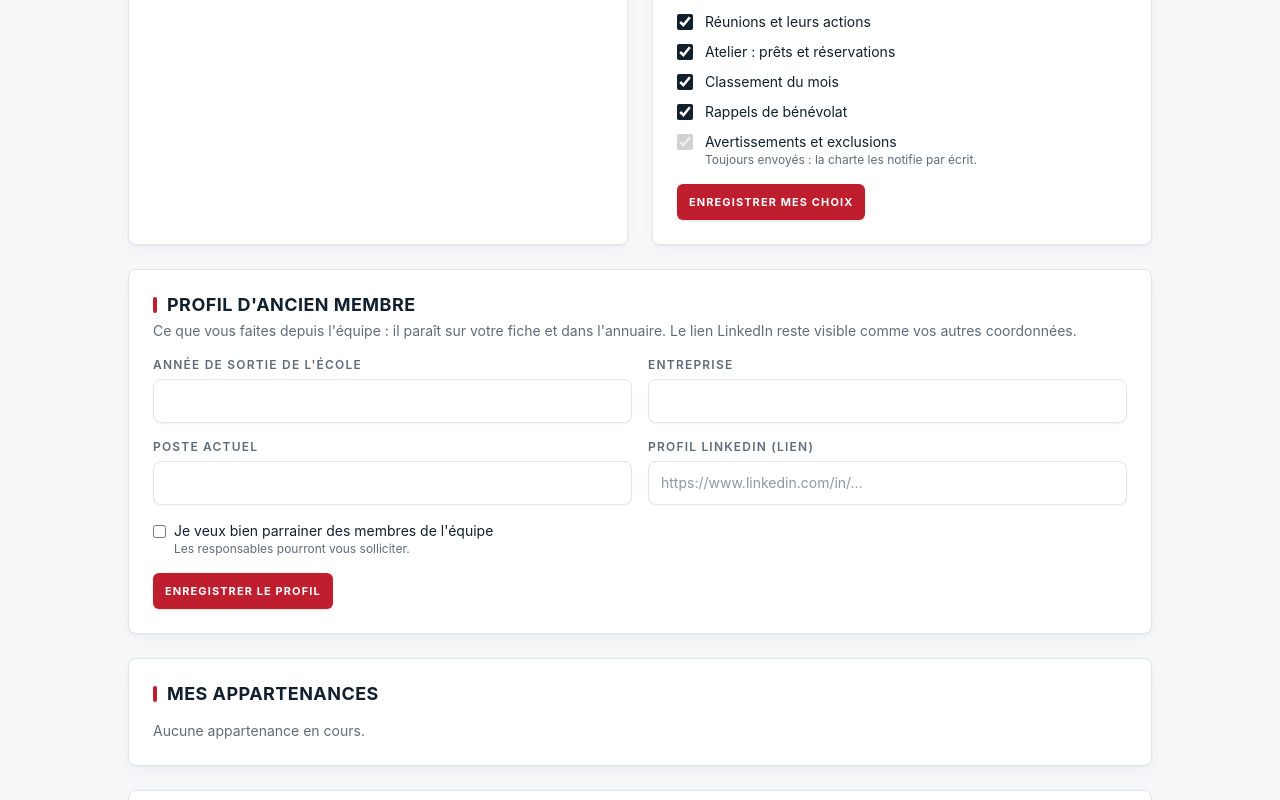
Test: ProfileView › saves the alumni profile
(page scrolled)
Type "2024" into the number field labelled "Année de sortie de l'école".
click(392, 400); type("2024")  # box [153,378,632,422]
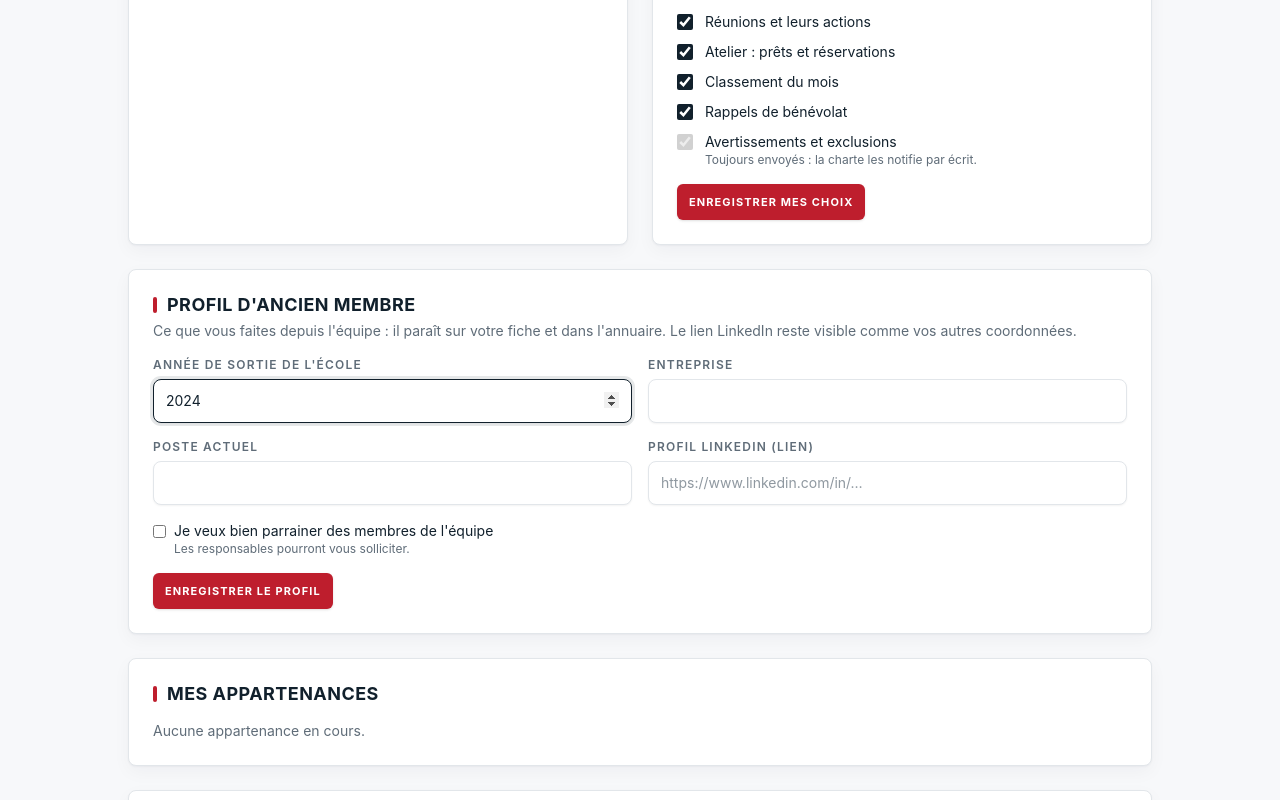
Type "Atelier Demo" into the field labelled "Entreprise".
click(888, 400); type("Atelier Demo")  # box [648,378,1127,422]
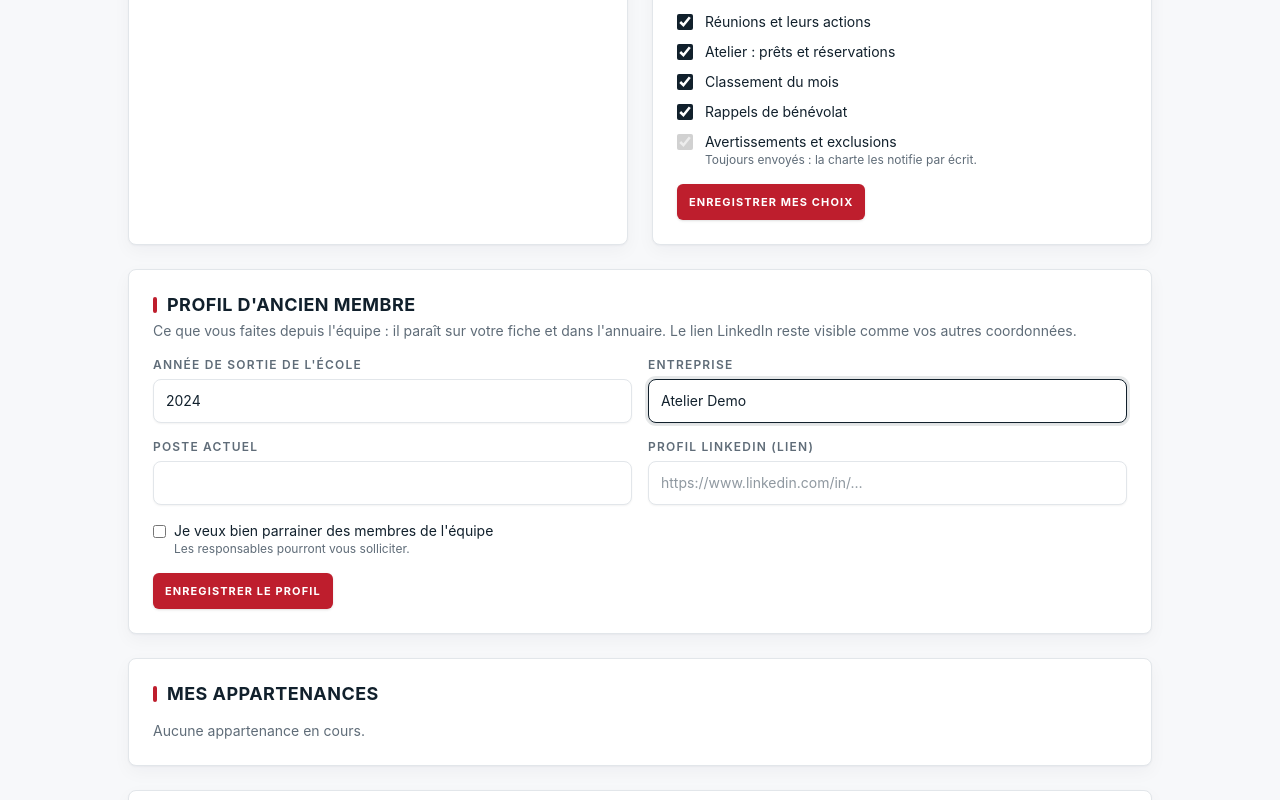
Type "Ingénieure calcul" into the field labelled "Poste actuel".
click(392, 482); type("Ingénieure calcul")  # box [153,460,632,504]
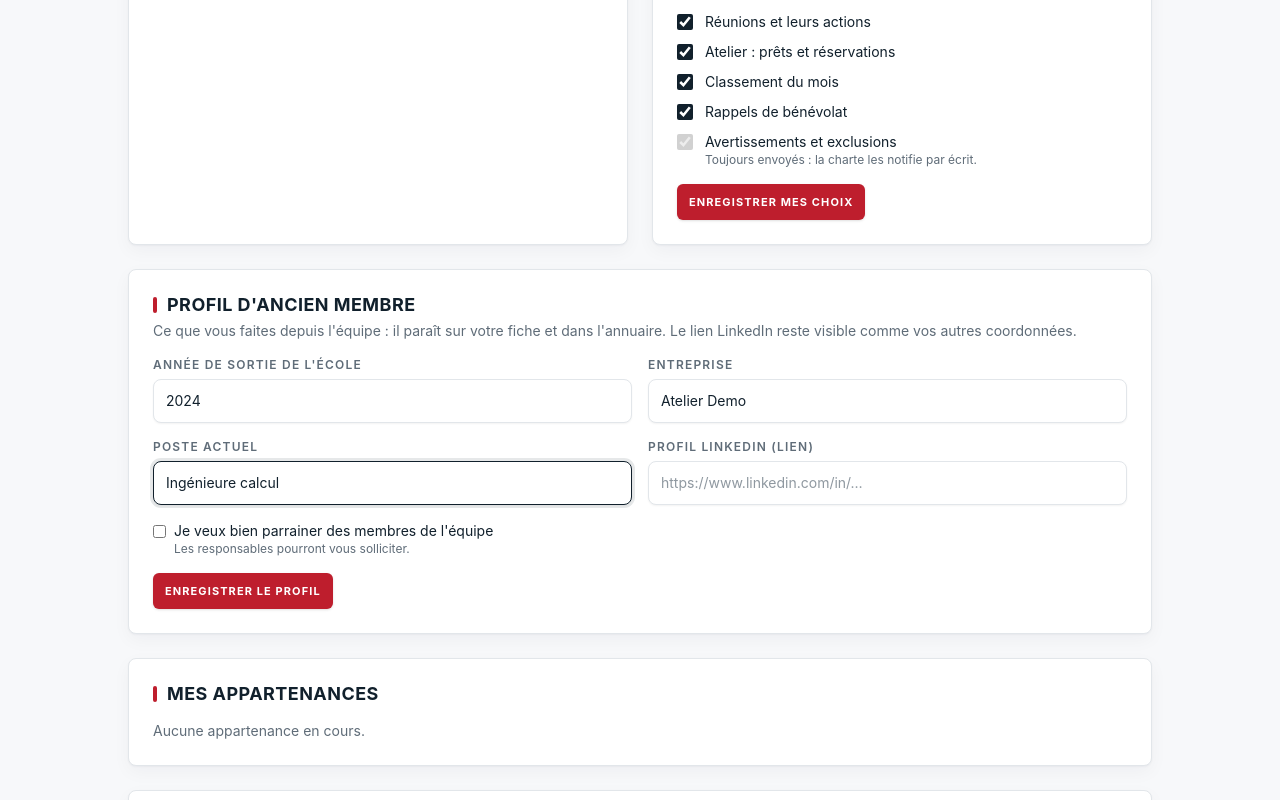
Type "https://www.linkedin.com/in/lina-demo" into the field labelled "Profil LinkedIn (lien)".
click(888, 482); type("https://www.linkedin.com/in/lina-demo")  # box [648,460,1127,504]
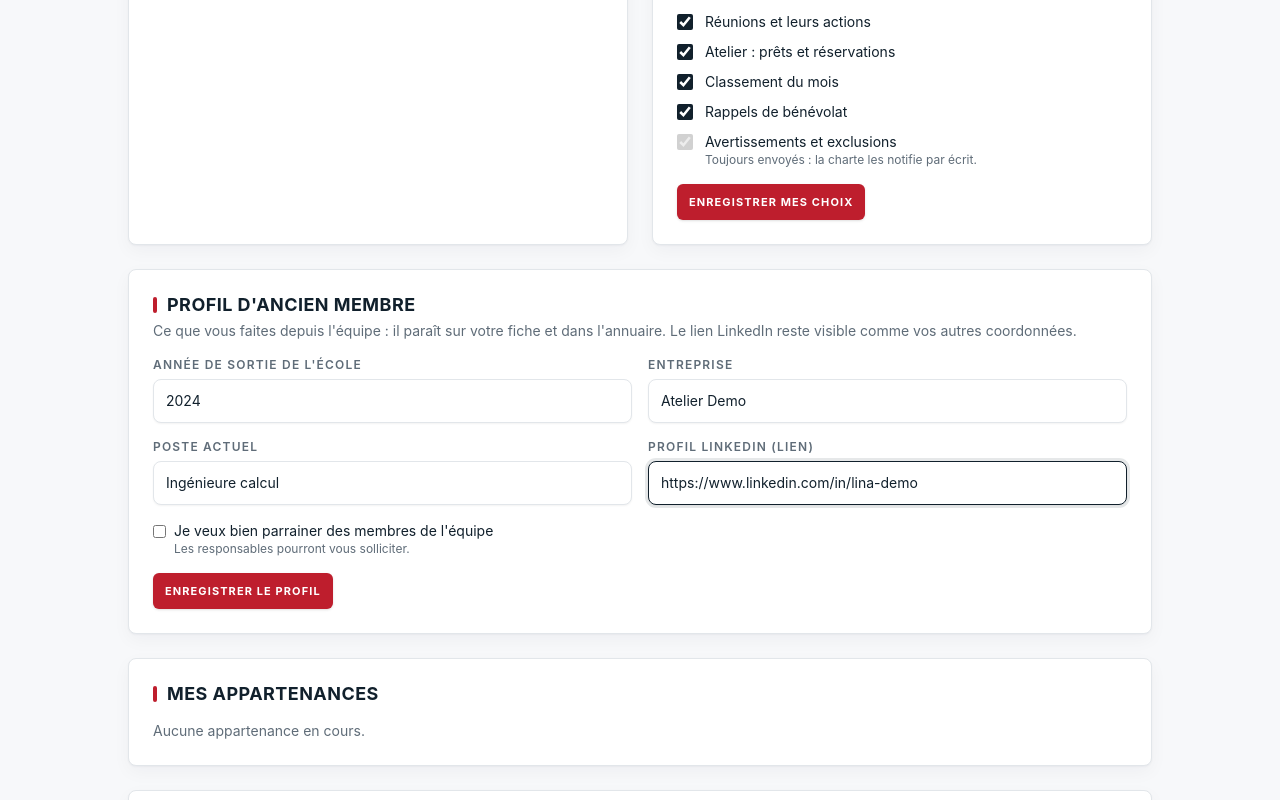
Click the checkbox labelled "parrainer".
click(160, 531)  # box [153,524,166,538]
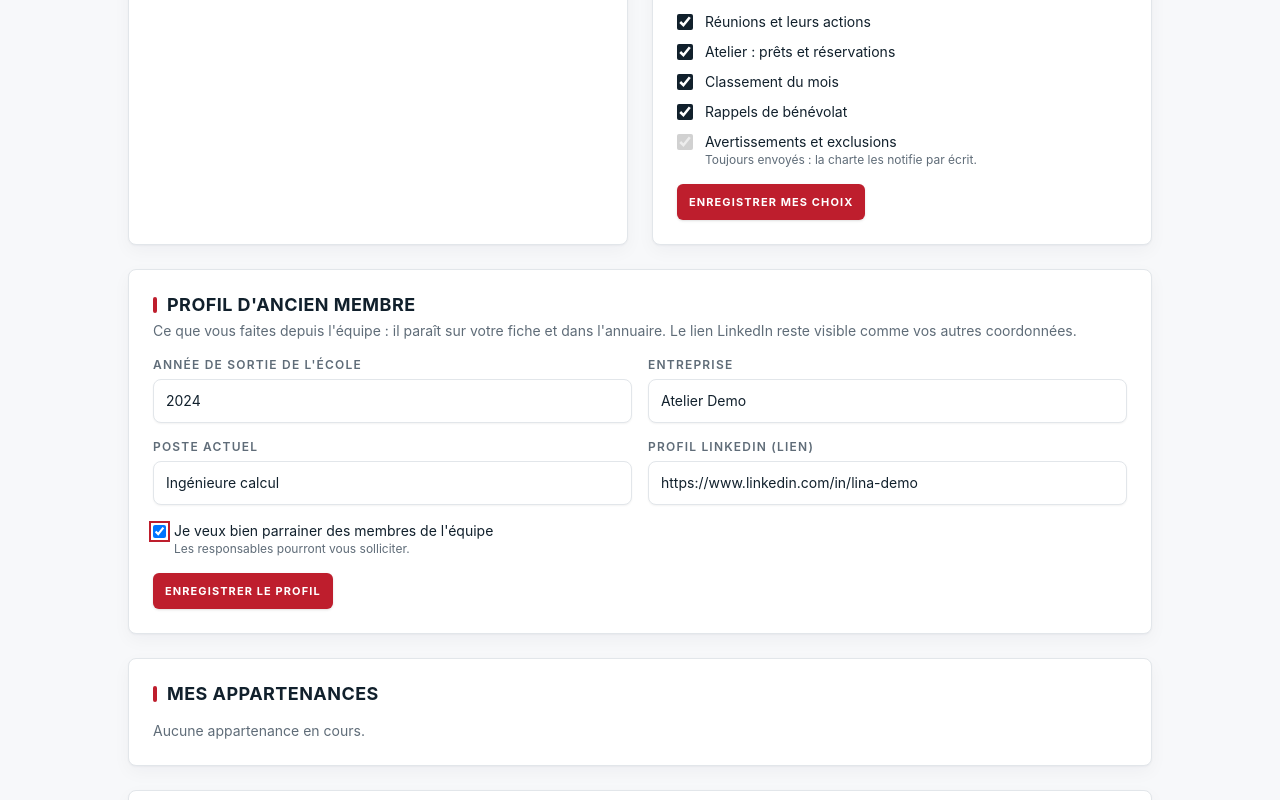
Click the button "Enregistrer le profil".
click(243, 590)  # box [153,572,333,608]
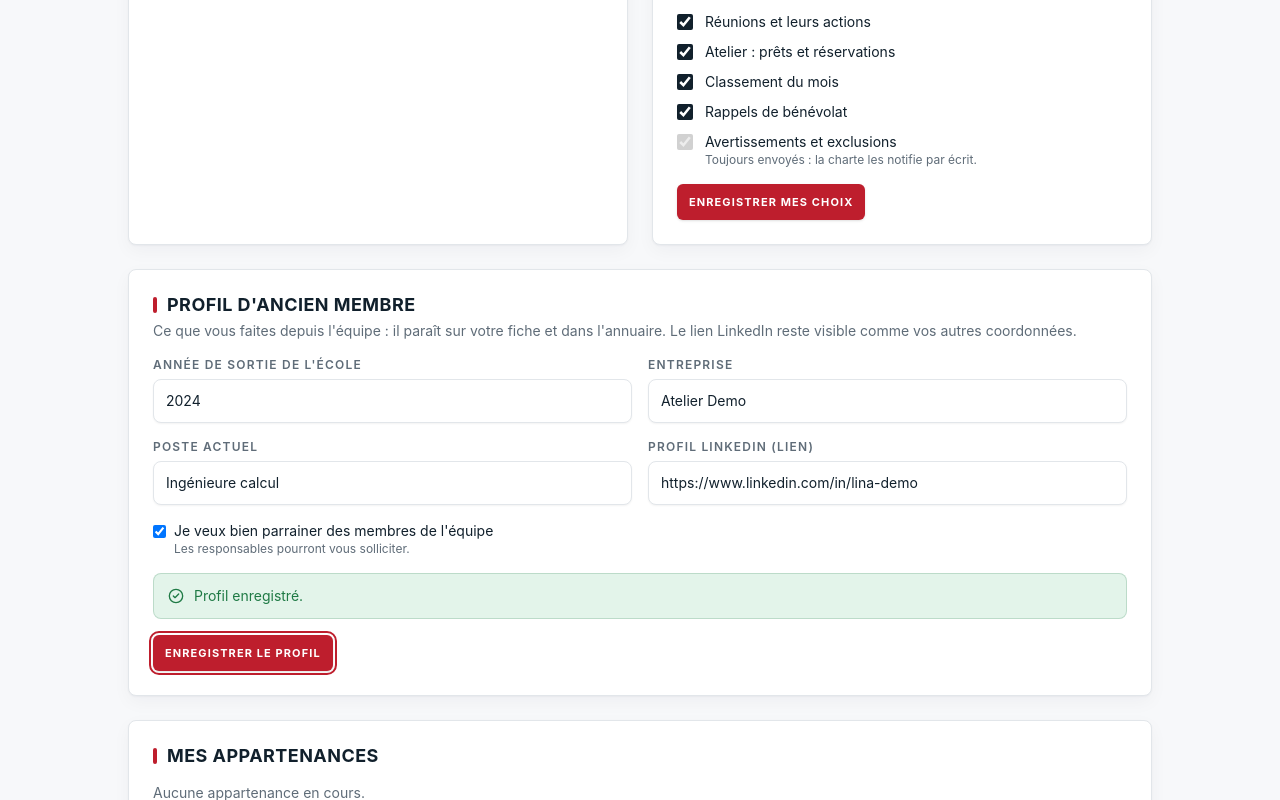
Check: the text "Profil enregistré." is shown, box [194,586,303,606]
